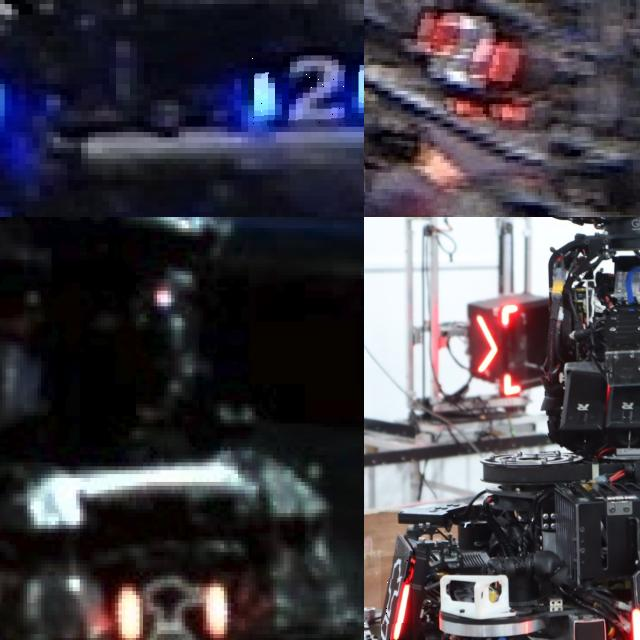B2: (248, 52, 364, 126)
R2: (404, 0, 502, 87)
Rs: (115, 587, 231, 640), (381, 555, 412, 640)
